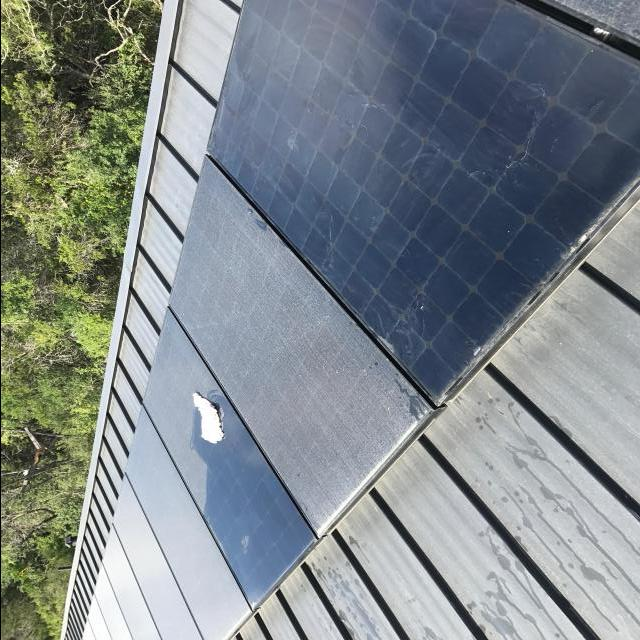soiled: (206, 8, 636, 386), (91, 190, 421, 640)
